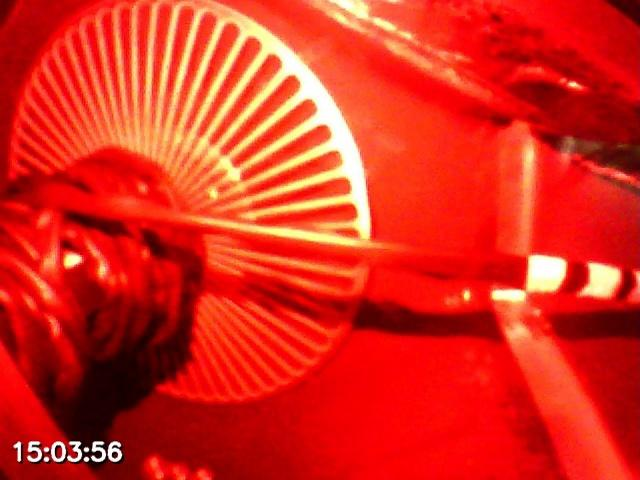white-dots: (526, 255, 640, 305)
